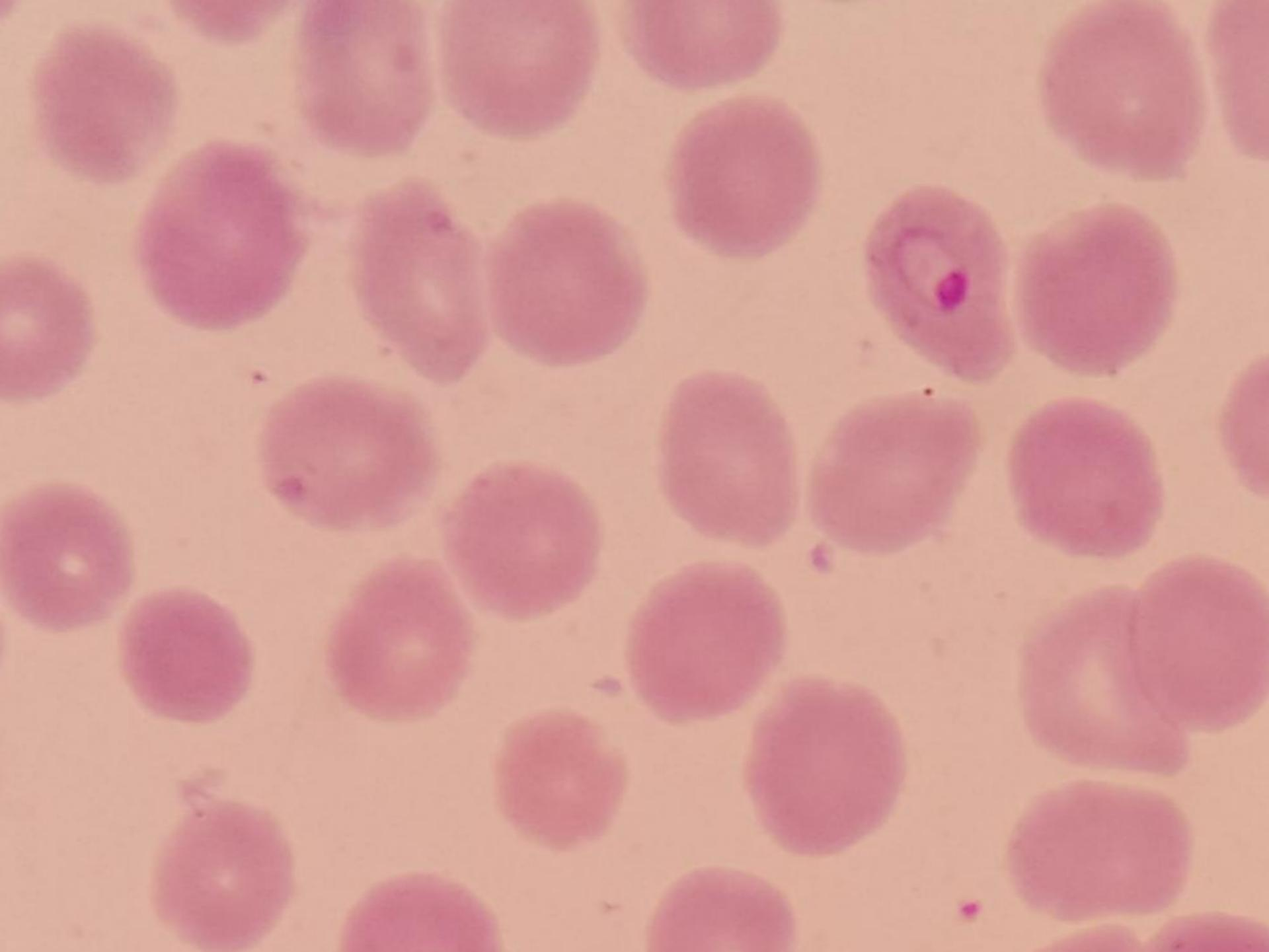Infected: (867, 189, 1017, 382)
Uninfected: (1024, 587, 1195, 776), (139, 141, 301, 327), (350, 182, 494, 386), (1016, 200, 1176, 378), (1044, 0, 1204, 175), (813, 397, 986, 558), (749, 676, 904, 854), (625, 560, 784, 724), (482, 202, 638, 369), (1008, 785, 1194, 924), (326, 555, 479, 722), (263, 380, 438, 526), (658, 370, 801, 546), (1129, 555, 1269, 734), (668, 96, 821, 257), (443, 463, 600, 618), (1010, 397, 1159, 550), (436, 0, 597, 138), (33, 27, 174, 180), (297, 0, 430, 158), (152, 800, 292, 945), (0, 481, 134, 627), (117, 590, 252, 722), (497, 709, 625, 847), (619, 0, 788, 89), (0, 261, 98, 400), (643, 867, 798, 952)
